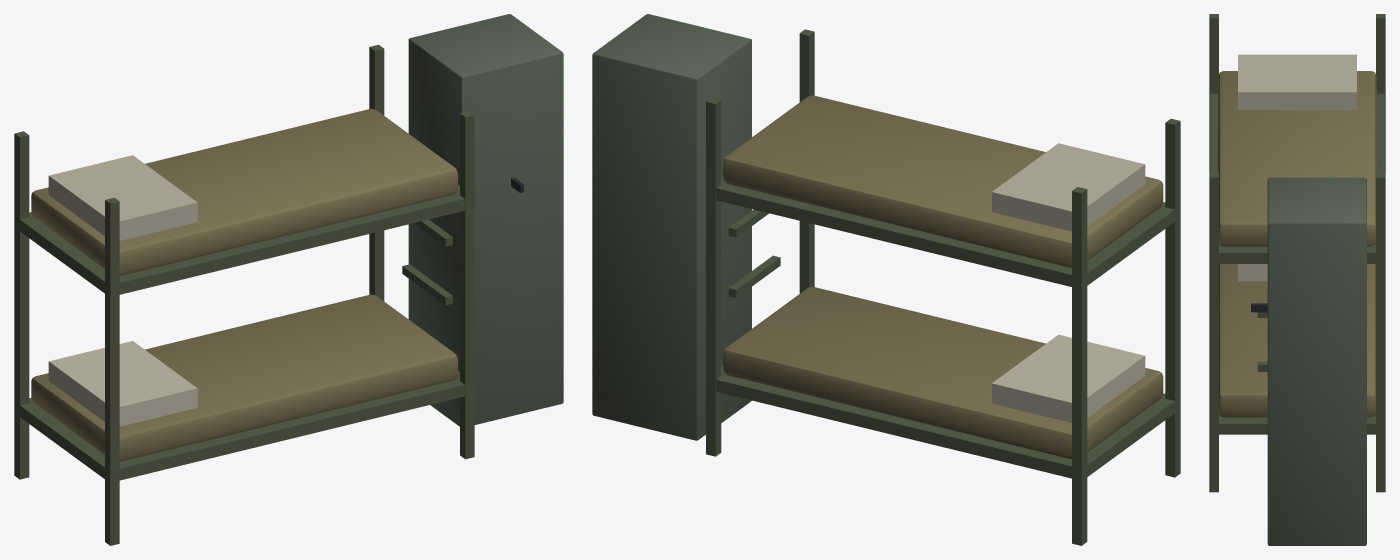
The model's file is bunk.glb.
3 renders of one model, left to right at view 1: azimuth 30°, elevation 25°; view 2: azimuth 150°, elevation 25°; view 3: azimuth 270°, elevation 25°, orthographic. The views are drawn at different scales.
Parts seen in each view (by area): view 1: Piece_lod0; view 2: Piece_lod0; view 3: Piece_lod0.
Boxes of the visible parts, x1,y1,x2,y2 form: Piece_lod0: [14, 14, 563, 545]; Piece_lod0: [592, 14, 1180, 545]; Piece_lod0: [1209, 14, 1385, 545].
Size of what is drawn, in the model's own units: 2.6 by 1.8 by 0.89.
